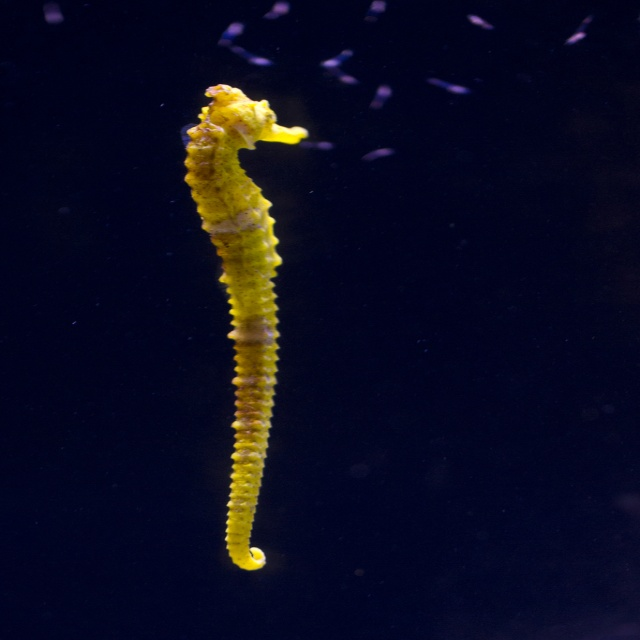Seahorse: (184, 84, 308, 570)
